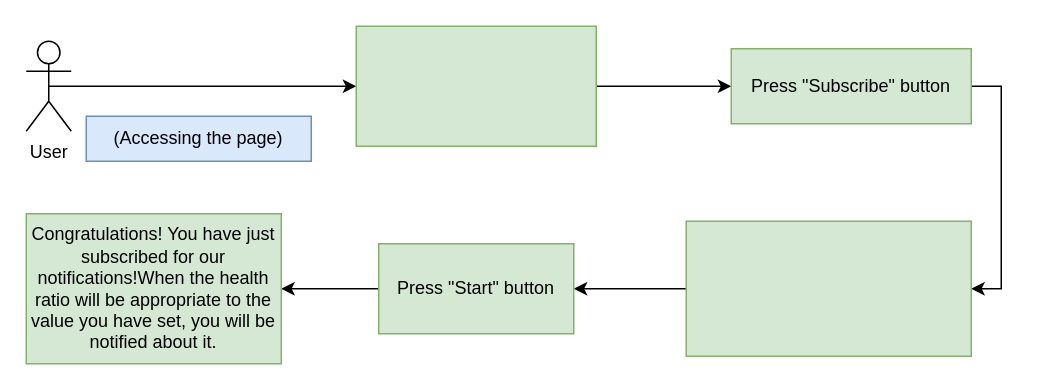
This 1040x390 diagram has some shape labels left out. The centre of each missing label's shape, as x and y in pixels:
"Check your Telegram account for new notifications from our telegram bot" belongs at [828,288].
"Enter all required fields: - email - walled ID - health ratio - protocol" belongs at [475,85].
